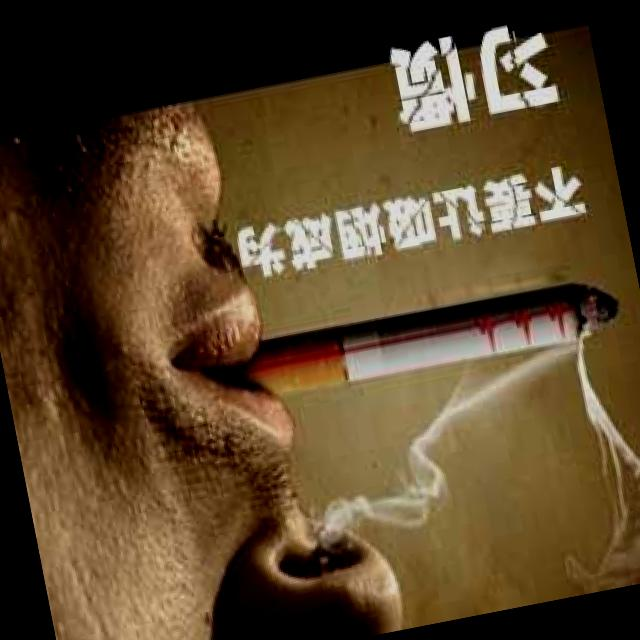cigarette: (211, 251, 625, 418)
